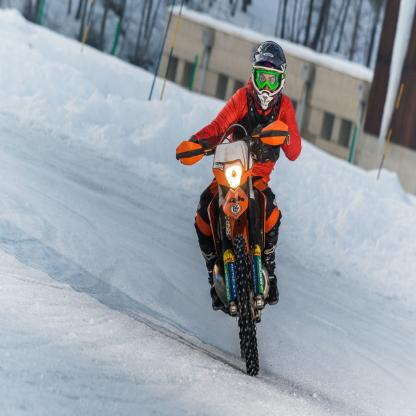Helmet: (249, 50, 292, 109)
